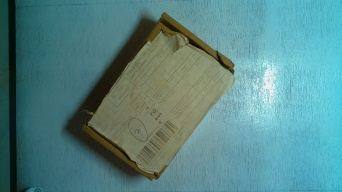a: (83, 6, 237, 180)
